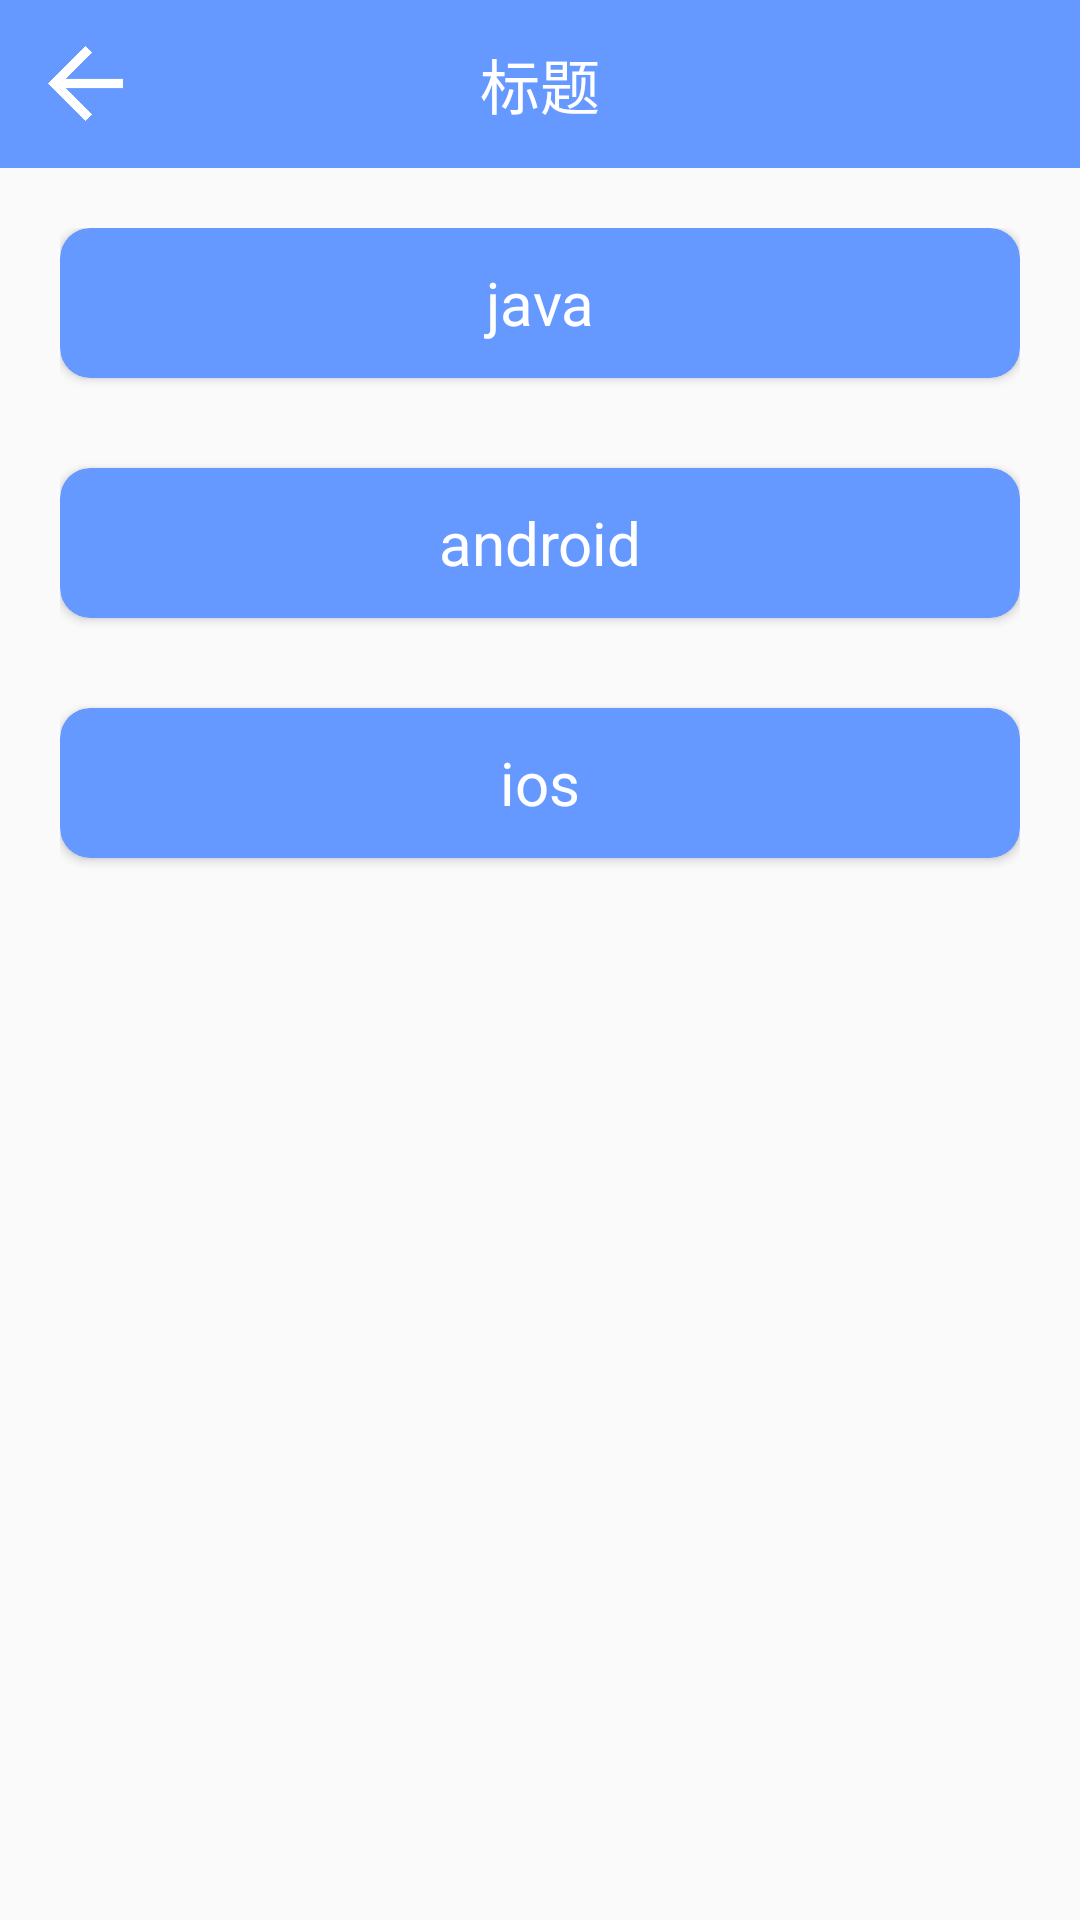

Screen size 1080 x 1920. Icon name, then its center in pixels as (x,y):
back: (85,83)
